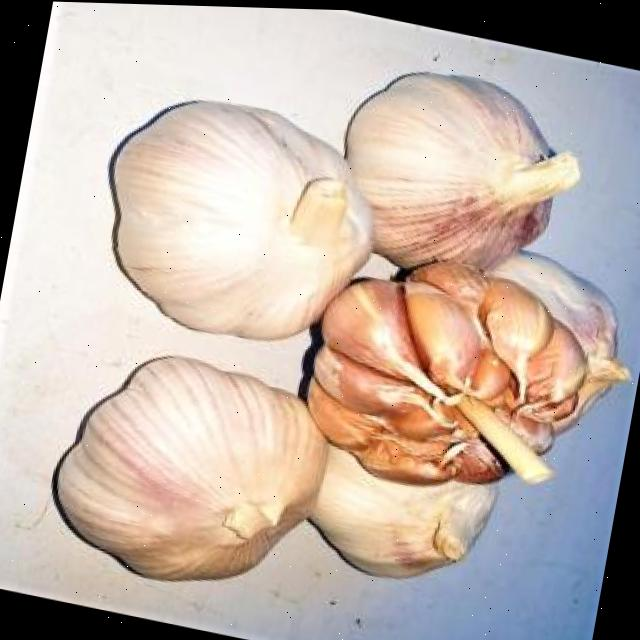Wet: (74, 76, 393, 367), (36, 331, 342, 609), (294, 232, 596, 512), (324, 47, 590, 304), (297, 398, 509, 598)
